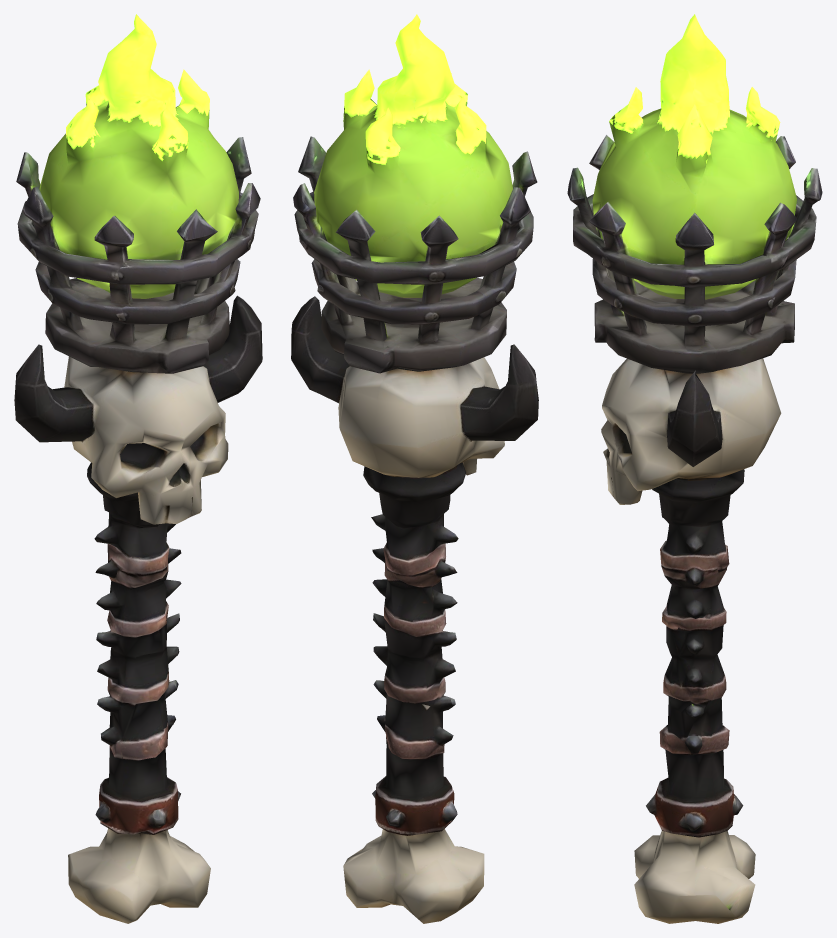
Rendered from UqLichKing_Staff-D6MUirIT.glb.
3 views of the same model, side by side, from view 1: azimuth 30°, elevation 25°; view 2: azimuth 150°, elevation 25°; view 3: azimuth 270°, elevation 25° (orthographic).
Parts seen in each view (by area): view 1: tripo_node_92c0735e-c318-4897-8bd6-233577b943ab; view 2: tripo_node_92c0735e-c318-4897-8bd6-233577b943ab; view 3: tripo_node_92c0735e-c318-4897-8bd6-233577b943ab.
Part boxes in pixels (x1=…): tripo_node_92c0735e-c318-4897-8bd6-233577b943ab: x1=14, y1=14, x2=262, y2=923; tripo_node_92c0735e-c318-4897-8bd6-233577b943ab: x1=291, y1=14, x2=538, y2=923; tripo_node_92c0735e-c318-4897-8bd6-233577b943ab: x1=567, y1=14, x2=822, y2=923.
Size of the model in its own units: 0.6342 by 2.2 by 0.5687.
1 material, 1 textured.
